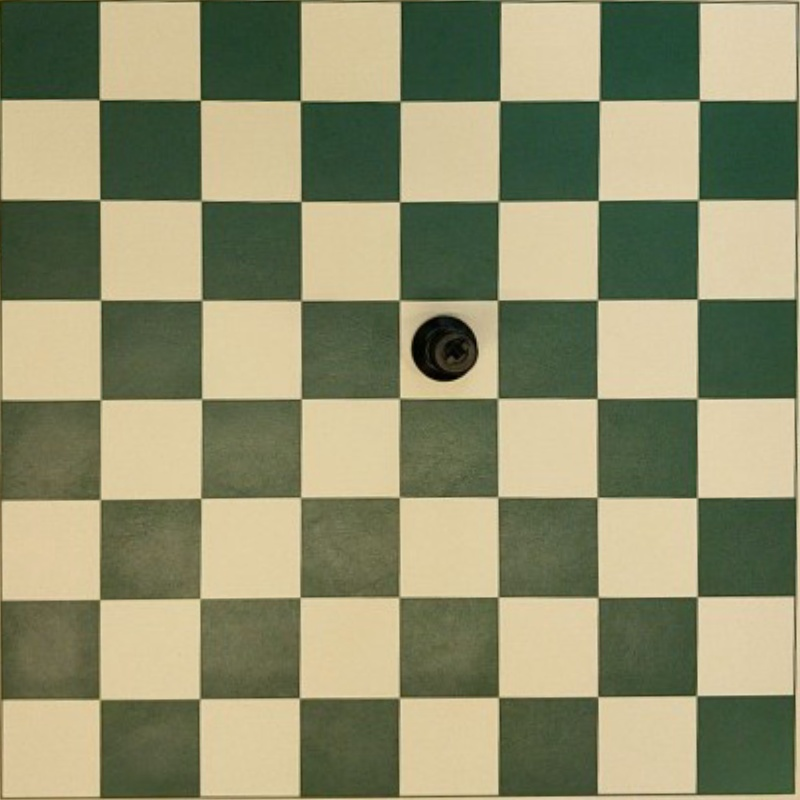black-king: (411, 315, 479, 381)
